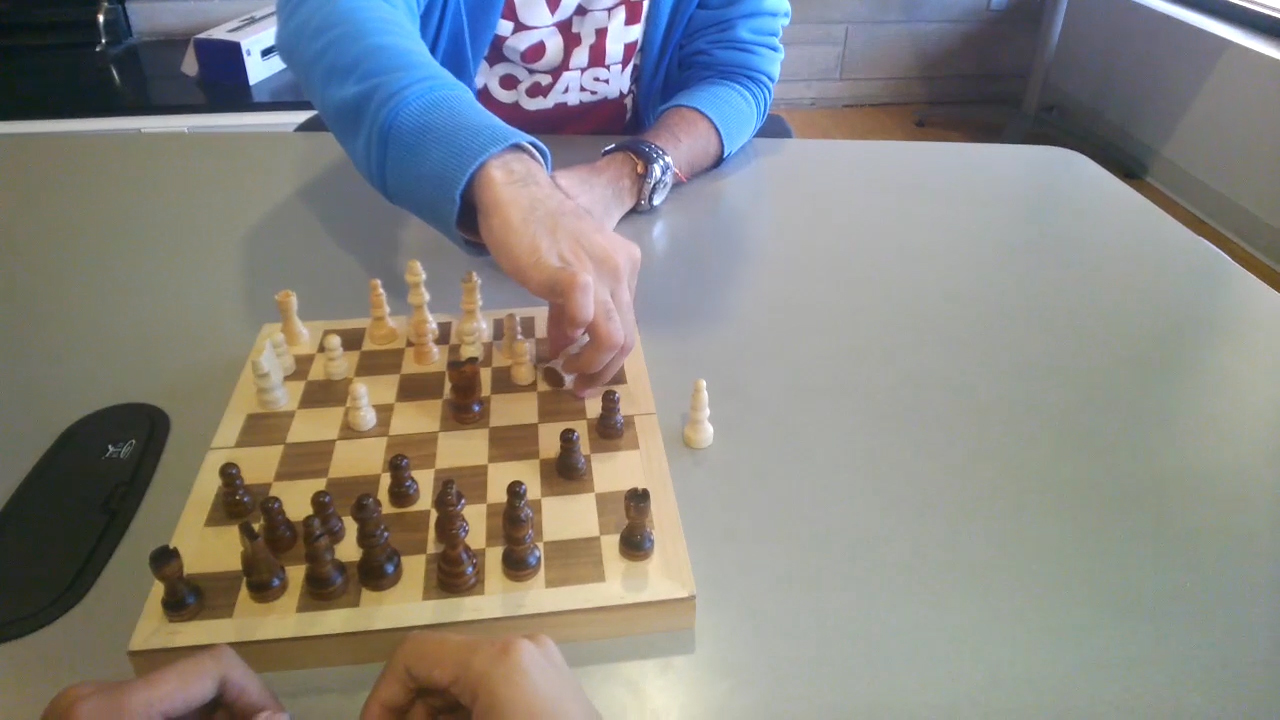hand: (471, 162, 637, 391), (363, 634, 608, 716), (42, 661, 281, 717), (553, 152, 636, 218)
